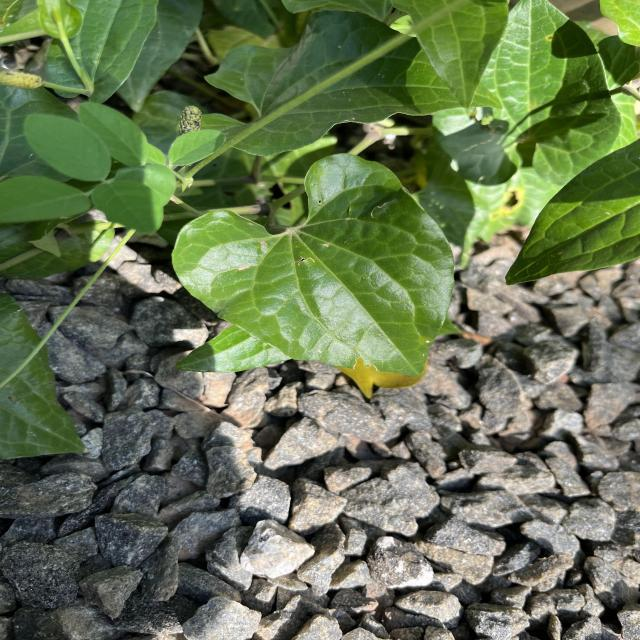Piper longum: (168, 150, 458, 379)
